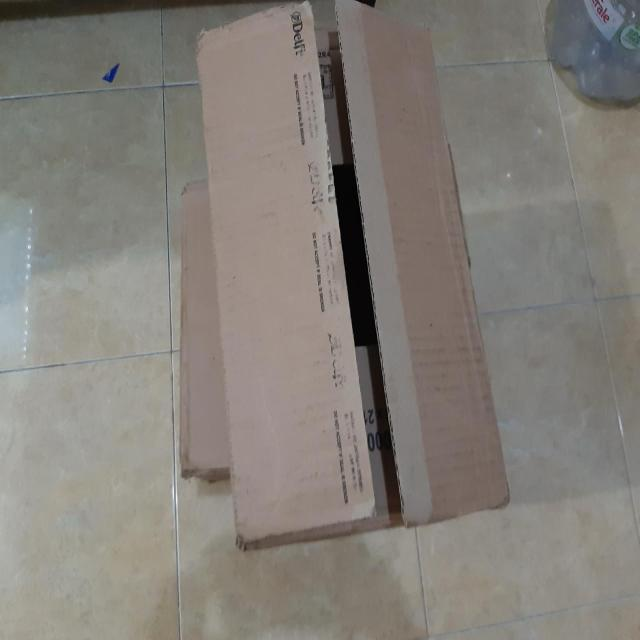Galon: (540, 0, 640, 103)
Kardus: (195, 0, 512, 549)
